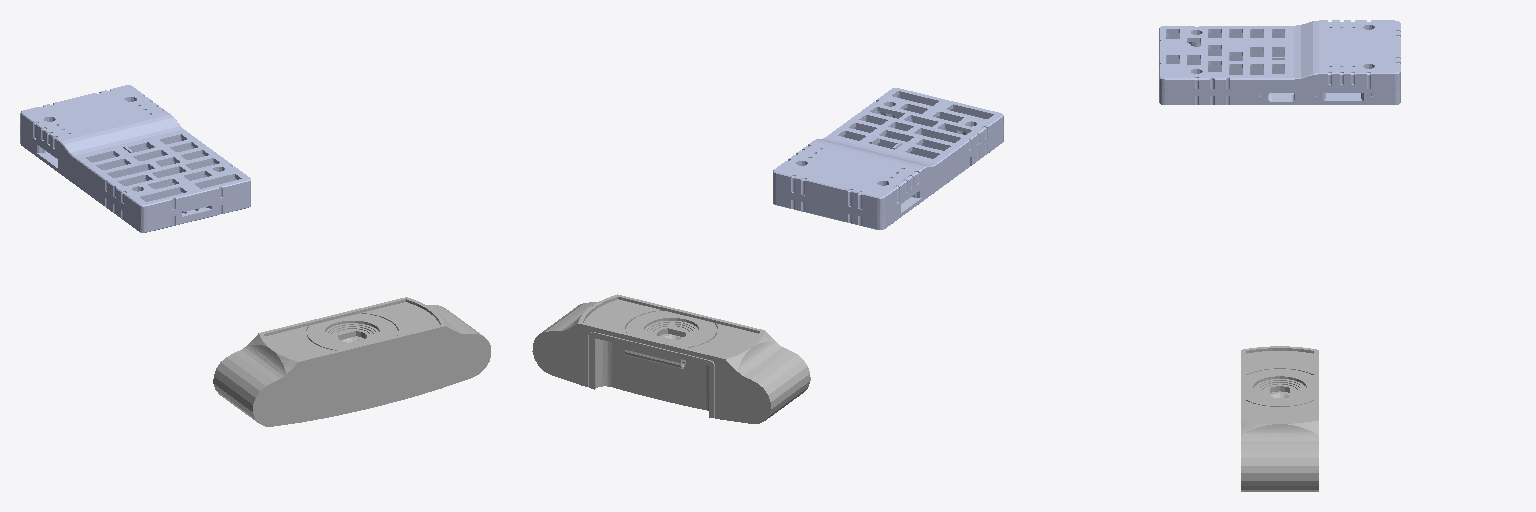
robot.urdf — holybro_drone:
<?xml version="1.0" encoding="utf-8"?>
<!-- This URDF was automatically created by SolidWorks to URDF Exporter! Originally created by [author] ([email redacted]) 
     Commit Version: 1.6.0-4-g7f85cfe  Build Version: 1.6.7995.38578
     For more information, please see http://wiki.ros.org/sw_urdf_exporter -->
<robot
  name="holybro_drone">
  <link
    name="drone_body_base_link">
    <inertial>
      <origin
        xyz="-0.00474812823591439 0.000332399189490623 0.188685724472848"
        rpy="0 0 0" />
      <mass
        value="0.541899689262017" />
      <inertia
        ixx="0.000260461980086645"
        ixy="-4.77261419335966E-07"
        ixz="2.41939390968265E-08"
        iyy="0.000421477361058496"
        iyz="-5.07813765628558E-10"
        izz="0.000534221132207482" />
    </inertial>
    <visual>
      <origin
        xyz="0 0 0"
        rpy="0 0 0" />
      <geometry>
        <mesh
          filename="package://holybro_drone/meshes/drone_body_base_link.STL" />
      </geometry>
      <material
        name="">
        <color
          rgba="0.792156862745098 0.819607843137255 0.933333333333333 1" />
      </material>
    </visual>
    <collision>
      <origin
        xyz="0 0 0"
        rpy="0 0 0" />
      <geometry>
        <mesh
          filename="package://holybro_drone/meshes/drone_body_base_link.STL" />
      </geometry>
    </collision>
  </link>
  <link
    name="webcam_mount_link">
    <inertial>
      <origin
        xyz="-3.36662680903432E-05 8.61193362763753E-19 -2.52497010677921E-05"
        rpy="0 0 0" />
      <mass
        value="0.0104980205284551" />
      <inertia
        ixx="3.25626015689325E-06"
        ixy="-2.55114792866347E-22"
        ixz="8.92398098021039E-12"
        iyy="3.44855383826237E-07"
        iyz="-4.68472847307208E-24"
        izz="3.30644984559379E-06" />
    </inertial>
    <visual>
      <origin
        xyz="0 0 0"
        rpy="0 0 0" />
      <geometry>
        <mesh
          filename="package://holybro_drone/meshes/webcam_mount_link.STL" />
      </geometry>
      <material
        name="">
        <color
          rgba="0.792156862745098 0.819607843137255 0.933333333333333 1" />
      </material>
    </visual>
    <collision>
      <origin
        xyz="0 0 0"
        rpy="0 0 0" />
      <geometry>
        <mesh
          filename="package://holybro_drone/meshes/webcam_mount_link.STL" />
      </geometry>
    </collision>
  </link>
  <joint
    name="webcam_mount_link"
    type="fixed">
    <origin
      xyz="0.0632000000000002 0 0.20551453171528"
      rpy="0 0 0" />
    <parent
      link="drone_body_base_link" />
    <child
      link="webcam_mount_link" />
    <axis
      xyz="0 0 0" />
  </joint>
  <link
    name="webcam_link">
    <inertial>
      <origin
        xyz="-0.00969133661013008 1.93370223325106E-05 0.0222849100330783"
        rpy="0 0 0" />
      <mass
        value="0.0925592950450194" />
      <inertia
        ixx="5.30992572848455E-05"
        ixy="-9.98223494495425E-10"
        ixz="-1.05314146170933E-07"
        iyy="1.90667390497112E-05"
        iyz="-3.42836265708613E-09"
        izz="4.16495082361373E-05" />
    </inertial>
    <visual>
      <origin
        xyz="0 0 0"
        rpy="0 0 0" />
      <geometry>
        <mesh
          filename="package://holybro_drone/meshes/webcam_link.STL" />
      </geometry>
      <material
        name="">
        <color
          rgba="0.752941176470588 0.752941176470588 0.752941176470588 1" />
      </material>
    </visual>
    <collision>
      <origin
        xyz="0 0 0"
        rpy="0 0 0" />
      <geometry>
        <mesh
          filename="package://holybro_drone/meshes/webcam_link.STL" />
      </geometry>
    </collision>
  </link>
  <joint
    name="webcam_link"
    type="fixed">
    <origin
      xyz="0.0219999999999998 0 -0.03175"
      rpy="0 0 0" />
    <parent
      link="webcam_mount_link" />
    <child
      link="webcam_link" />
    <axis
      xyz="0 0 0" />
  </joint>
  <link
    name="controller_mount_link">
    <inertial>
      <origin
        xyz="-5.76825890036018E-05 0.000196638100443083 0.00115851206724638"
        rpy="0 0 0" />
      <mass
        value="0.00884874292458755" />
      <inertia
        ixx="1.78738222676864E-06"
        ixy="-5.27006669613329E-09"
        ixz="1.17560932668163E-09"
        iyy="5.98476840957091E-06"
        iyz="-4.07418900299138E-09"
        izz="7.75924590198396E-06" />
    </inertial>
    <visual>
      <origin
        xyz="0 0 0"
        rpy="0 0 0" />
      <geometry>
        <mesh
          filename="package://holybro_drone/meshes/controller_mount_link.STL" />
      </geometry>
      <material
        name="">
        <color
          rgba="0.792156862745098 0.819607843137255 0.933333333333333 1" />
      </material>
    </visual>
    <collision>
      <origin
        xyz="0 0 0"
        rpy="0 0 0" />
      <geometry>
        <mesh
          filename="package://holybro_drone/meshes/controller_mount_link.STL" />
      </geometry>
    </collision>
  </link>
  <joint
    name="controller_mount_link"
    type="fixed">
    <origin
      xyz="0 0 0.25051453171528"
      rpy="0 0 0" />
    <parent
      link="drone_body_base_link" />
    <child
      link="controller_mount_link" />
    <axis
      xyz="0 0 0" />
  </joint>
  <link
    name="controller_link">
    <inertial>
      <origin
        xyz="0.00219245605079515 -0.000103368112899344 -0.00062973919272663"
        rpy="0 0 0" />
      <mass
        value="0.0195061887387913" />
      <inertia
        ixx="3.63718487765765E-06"
        ixy="-2.2550560703468E-08"
        ixz="-1.34352753310044E-07"
        iyy="1.22785999505225E-05"
        iyz="-3.82619475438593E-09"
        izz="1.58355869042221E-05" />
    </inertial>
    <visual>
      <origin
        xyz="0 0 0"
        rpy="0 0 0" />
      <geometry>
        <mesh
          filename="package://holybro_drone/meshes/controller_link.STL" />
      </geometry>
      <material
        name="">
        <color
          rgba="0.792156862745098 0.819607843137255 0.933333333333333 1" />
      </material>
    </visual>
    <collision>
      <origin
        xyz="0 0 0"
        rpy="0 0 0" />
      <geometry>
        <mesh
          filename="package://holybro_drone/meshes/controller_link.STL" />
      </geometry>
    </collision>
  </link>
  <joint
    name="controller_link"
    type="fixed">
    <origin
      xyz="0 0 0.00789999999999996"
      rpy="0 0 0" />
    <parent
      link="controller_mount_link" />
    <child
      link="controller_link" />
    <axis
      xyz="0 0 0" />
  </joint>
</robot>

--- What the picture shows (computed from the rendered views, not written in the file) ---
3 views of the same robot in one strip: view 1: azimuth 30°, elevation 25°; view 2: azimuth 150°, elevation 25°; view 3: azimuth 270°, elevation 25° (orthographic).
Robot: holybro_drone — 5 links, 4 joints (4 fixed); root link drone_body_base_link; default pose: every joint at zero.
Visible links, largest first — view 1: webcam_link, controller_link; view 2: webcam_link, controller_link; view 3: controller_link, webcam_link.
Link boxes in pixels (bbox=[...]): webcam_link: bbox=[213, 297, 490, 426]; controller_link: bbox=[20, 85, 250, 232]; webcam_link: bbox=[532, 294, 810, 423]; controller_link: bbox=[773, 88, 1003, 229]; controller_link: bbox=[1159, 20, 1400, 104]; webcam_link: bbox=[1241, 346, 1318, 491].
Size in the robot's own frame: 0.1541 by 0.084 by 0.1142 metres.
Meshes: 5 distinct files referenced, 2 mesh visuals loaded (2 binary STL); not drawn: 3 (reference not matched to a file when rendering).